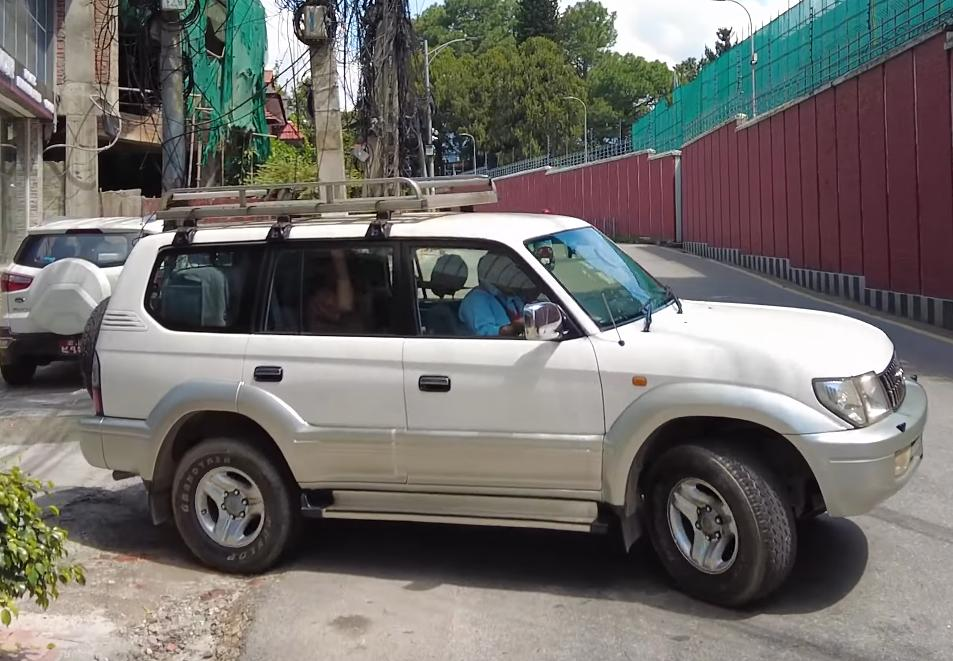SUV: (82, 181, 935, 596)
